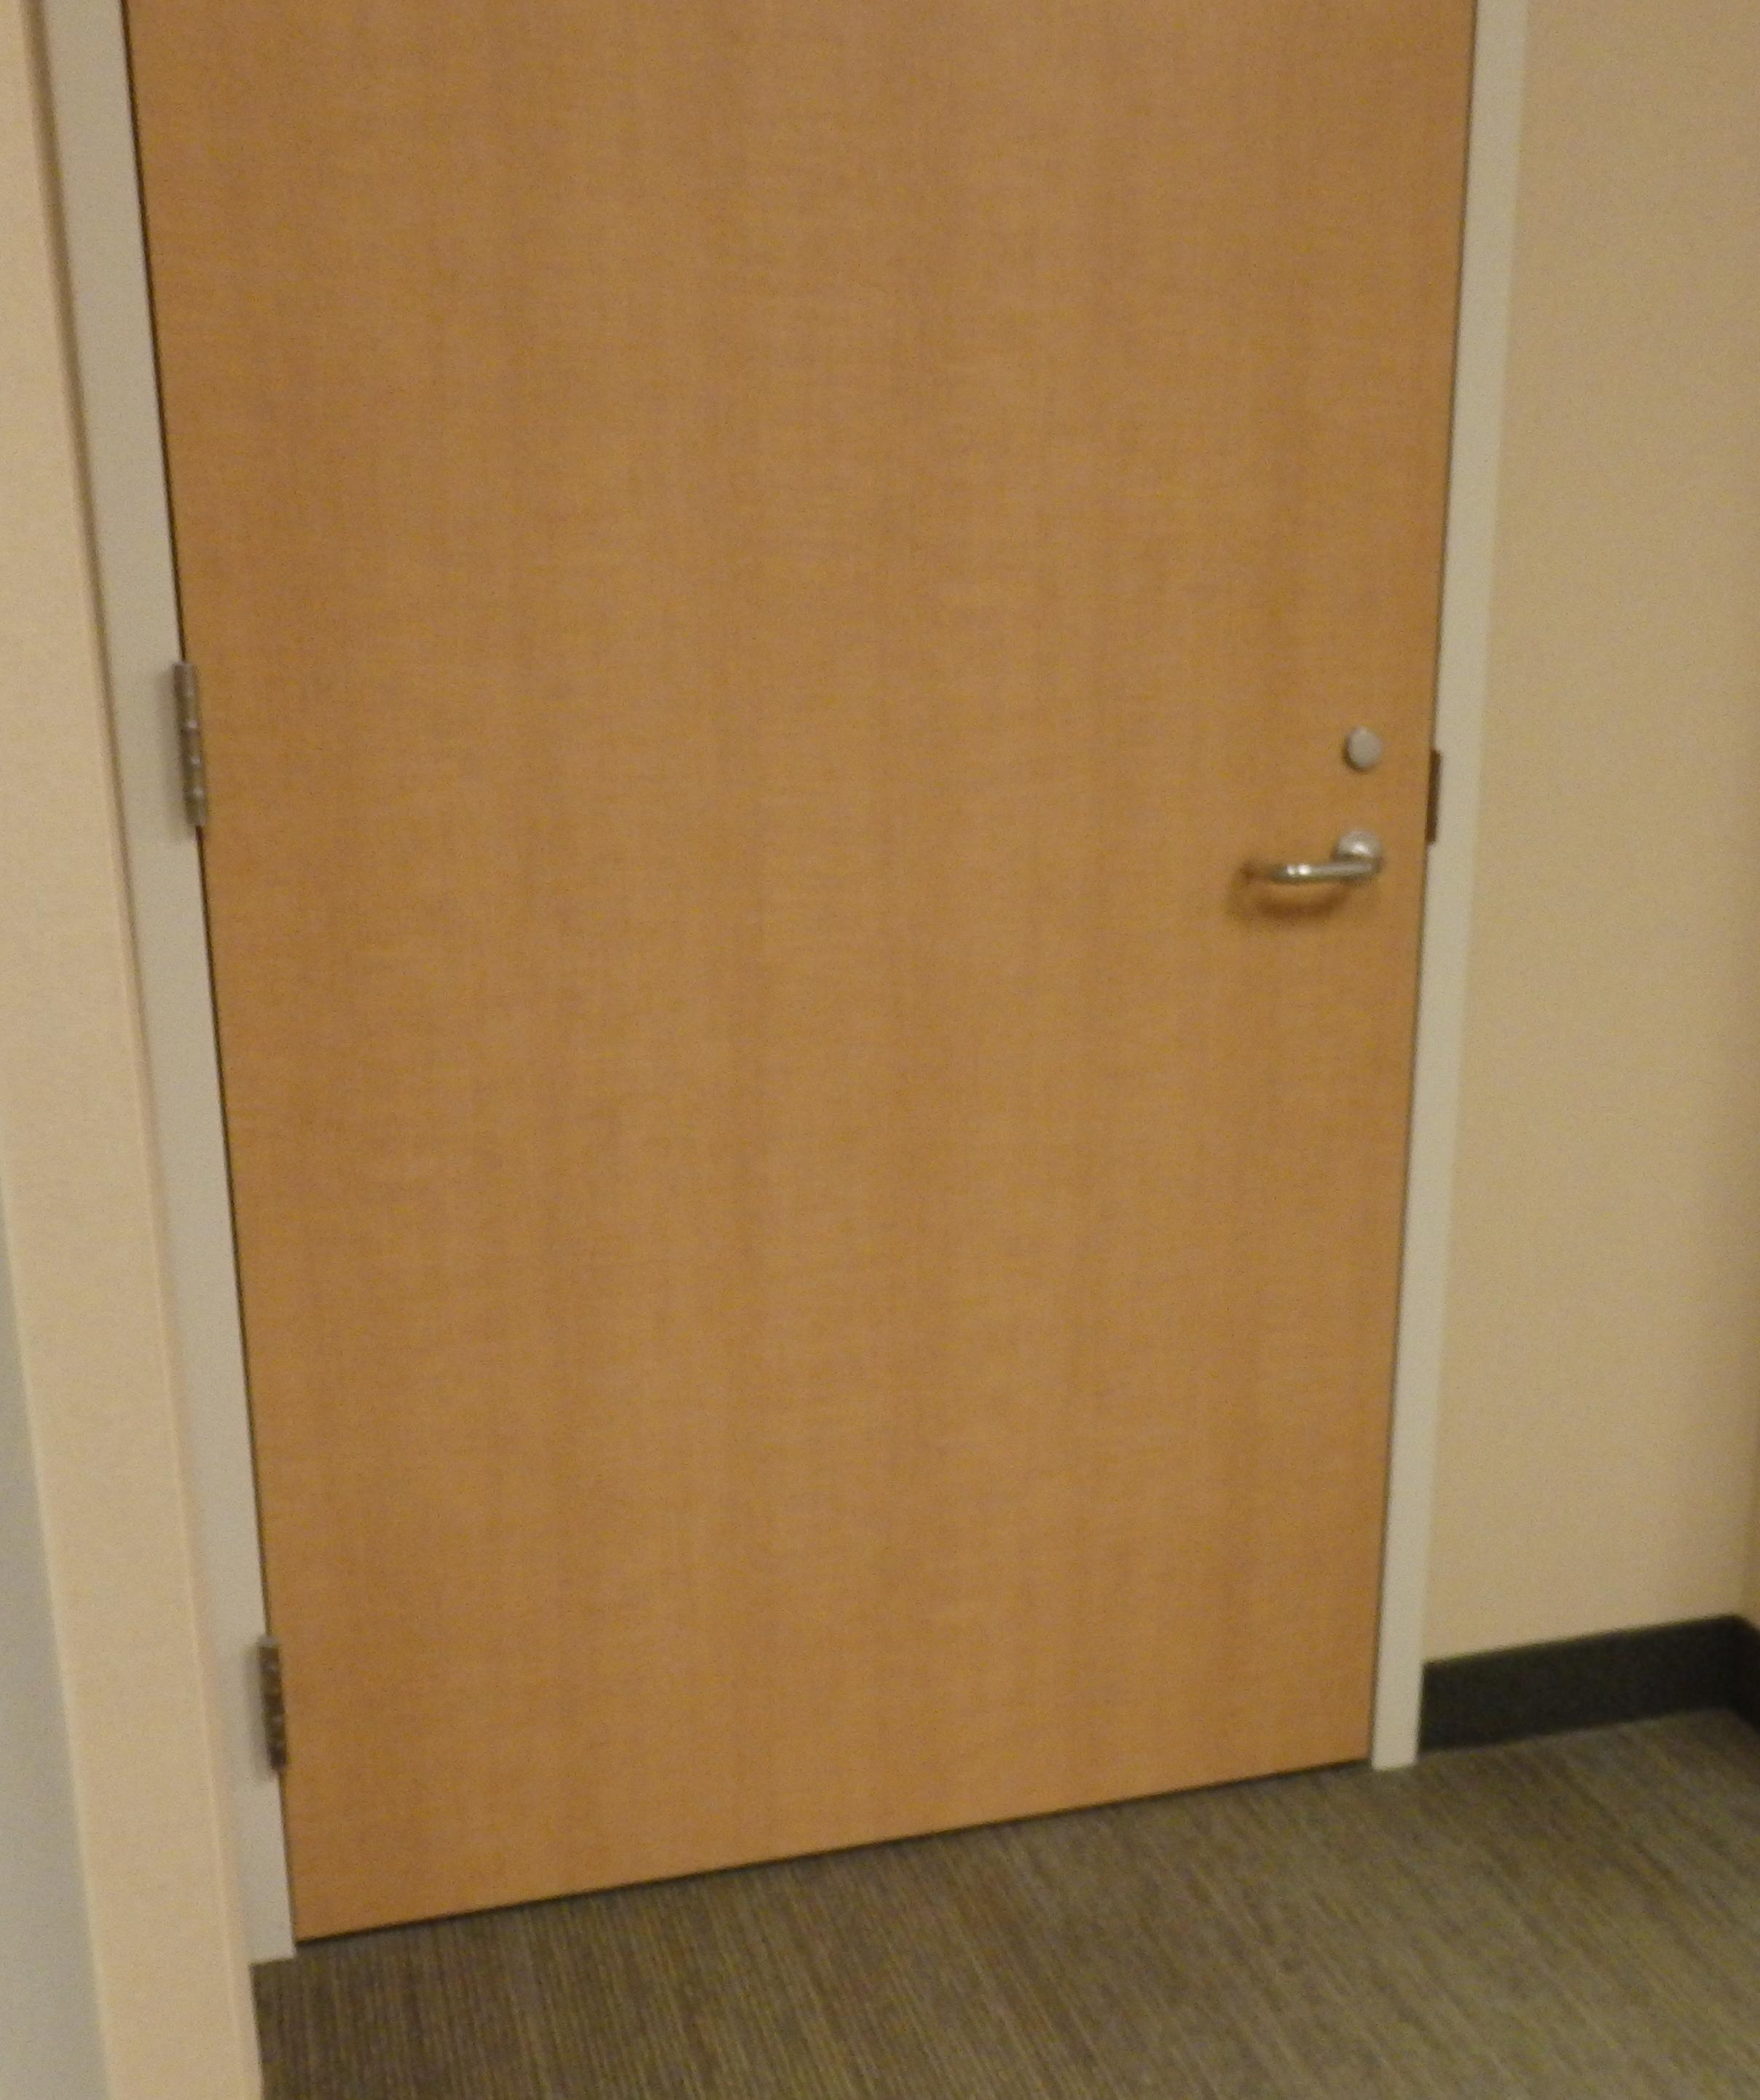door: (234, 0, 1409, 1952)
